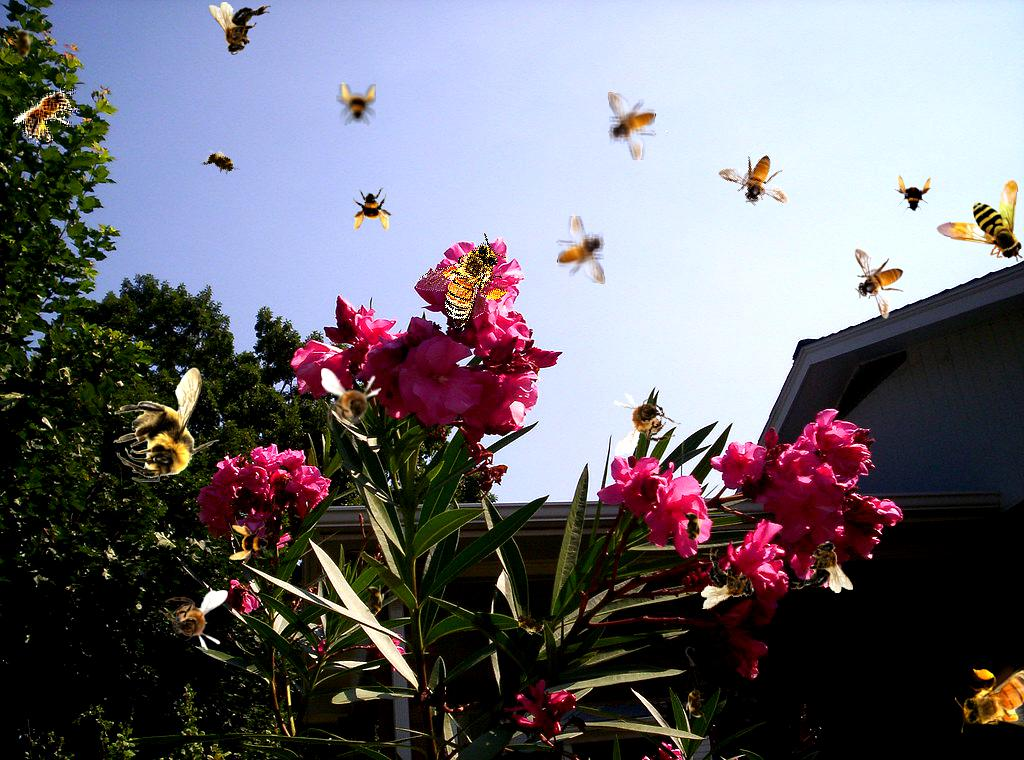Bee: (410, 229, 526, 336), (113, 367, 220, 482), (716, 138, 802, 225), (935, 178, 1024, 262), (11, 74, 89, 153), (604, 383, 685, 457), (955, 665, 1024, 733), (158, 590, 228, 651), (321, 368, 382, 438), (699, 547, 760, 615), (854, 248, 904, 319), (607, 91, 657, 162), (556, 214, 606, 285), (209, 2, 271, 55), (791, 540, 853, 593), (349, 186, 397, 234), (890, 173, 934, 217), (334, 82, 378, 126), (229, 523, 273, 567), (507, 604, 553, 642), (198, 144, 244, 182), (685, 683, 707, 723), (681, 507, 703, 547), (363, 581, 385, 621), (11, 24, 33, 64)
